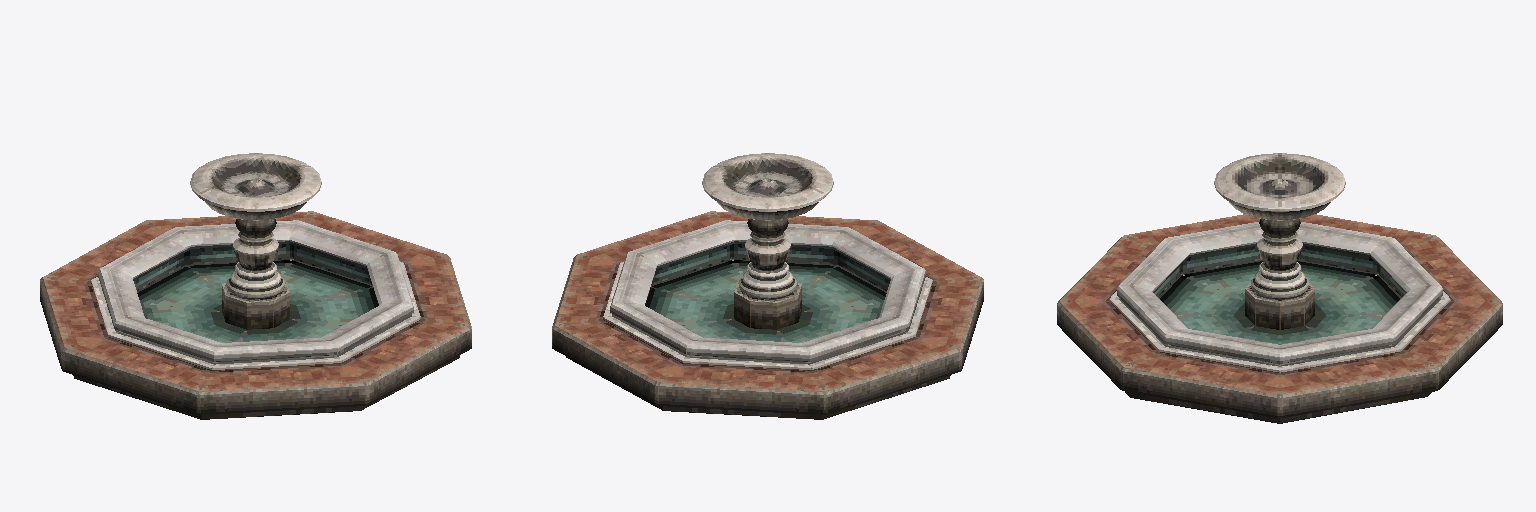
3 views of the same model, side by side, from view 1: azimuth 30°, elevation 25°; view 2: azimuth 150°, elevation 25°; view 3: azimuth 270°, elevation 25° (orthographic).
Visible parts, largest first — view 1: fountain; view 2: fountain; view 3: fountain.
Boxes of the visible parts, <box> form: fountain: <box>40,153,471,419</box>; fountain: <box>552,153,983,419</box>; fountain: <box>1057,153,1502,423</box>.
Size of the model in its own units: 1.84 by 0.7187 by 1.84.
Materials: 1 (1 with a texture image).